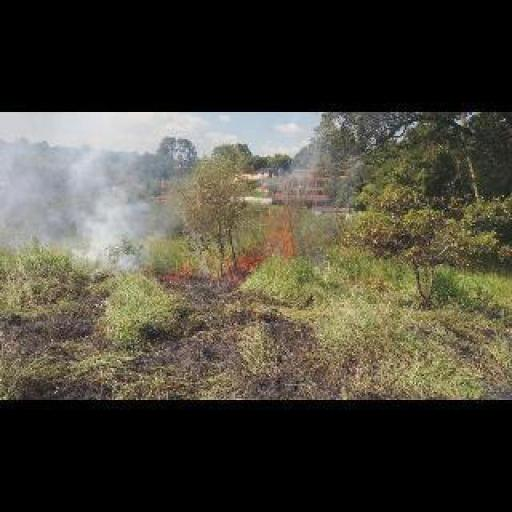smoke: (55, 150, 154, 280), (235, 205, 293, 269)
